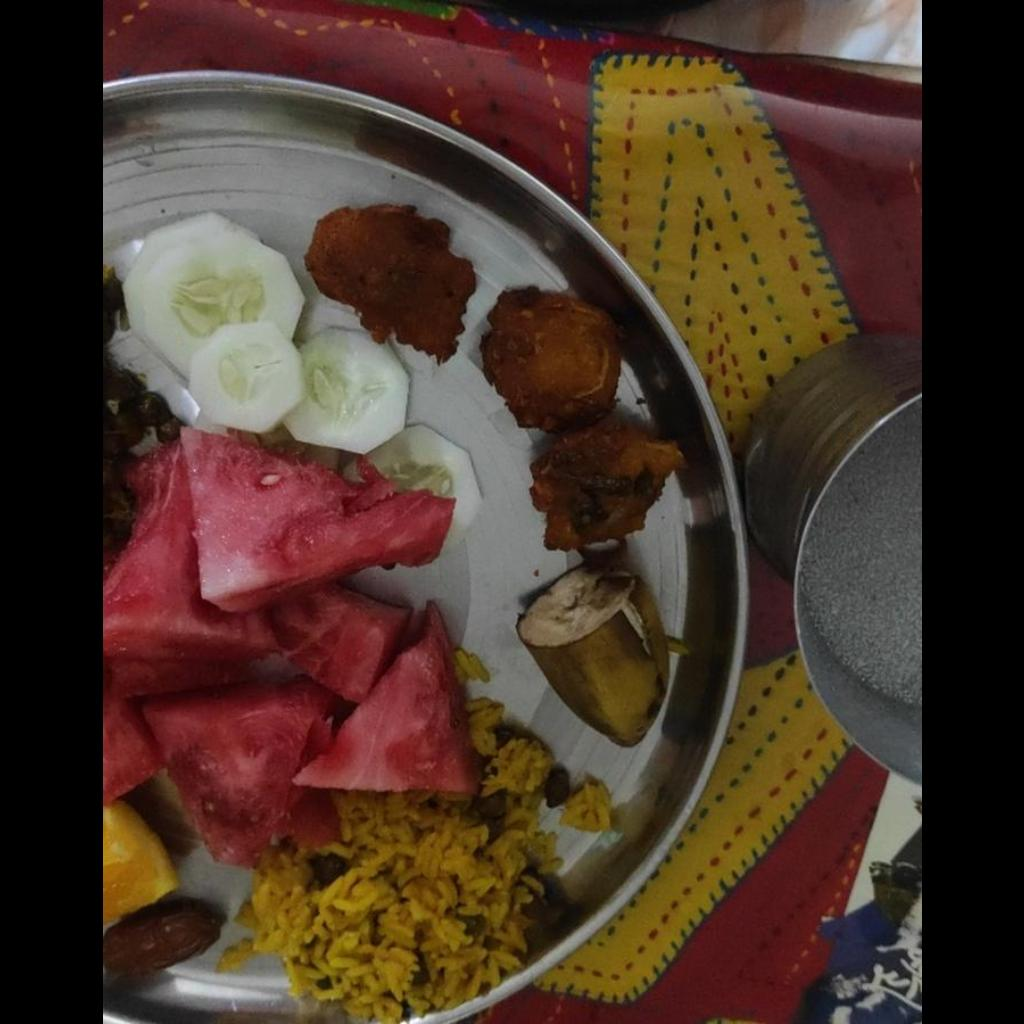banana: (517, 567, 663, 747)
cucumber: (125, 215, 487, 521)
dates: (102, 897, 218, 985)
juice: (801, 395, 920, 708)
khichuri: (221, 645, 609, 1023)
orange: (102, 802, 177, 926)
peyaju: (301, 204, 679, 546)
watermelon: (102, 425, 471, 871)
